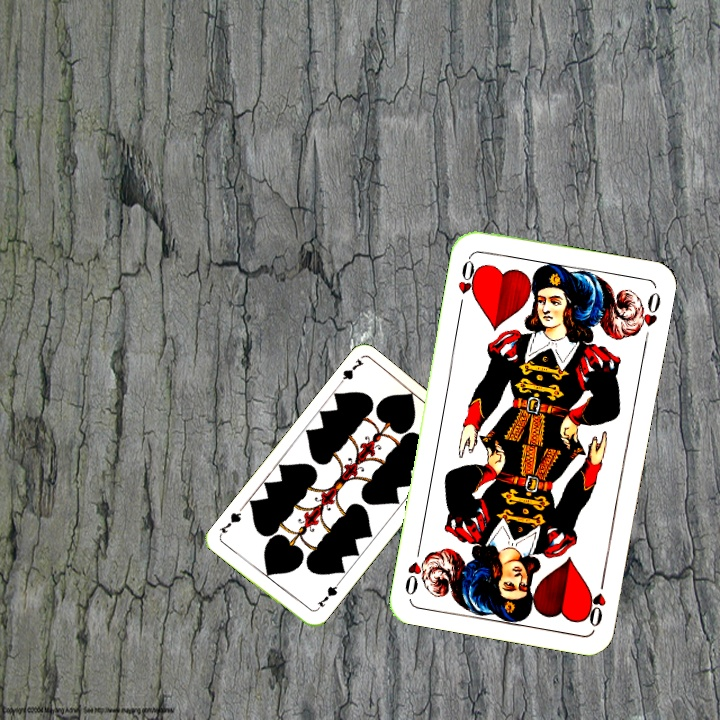G7: (333, 355, 366, 390), (311, 579, 341, 613)
HO: (454, 253, 483, 312), (581, 572, 609, 630)
